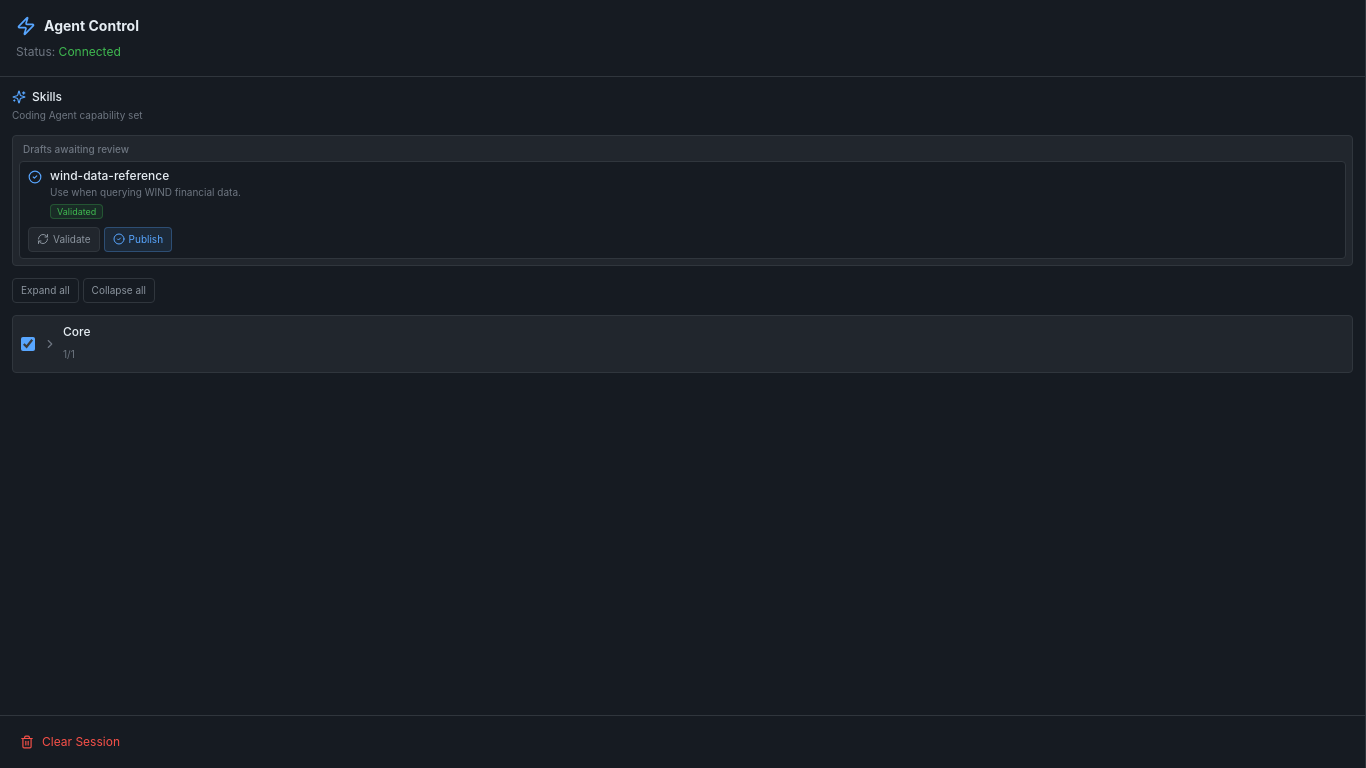
Test: Sidebar › publishes a draft for the current agent and expands the user skills category
Click the button "Publish": click(138, 239) top-left (104, 226), bottom-right (172, 252)
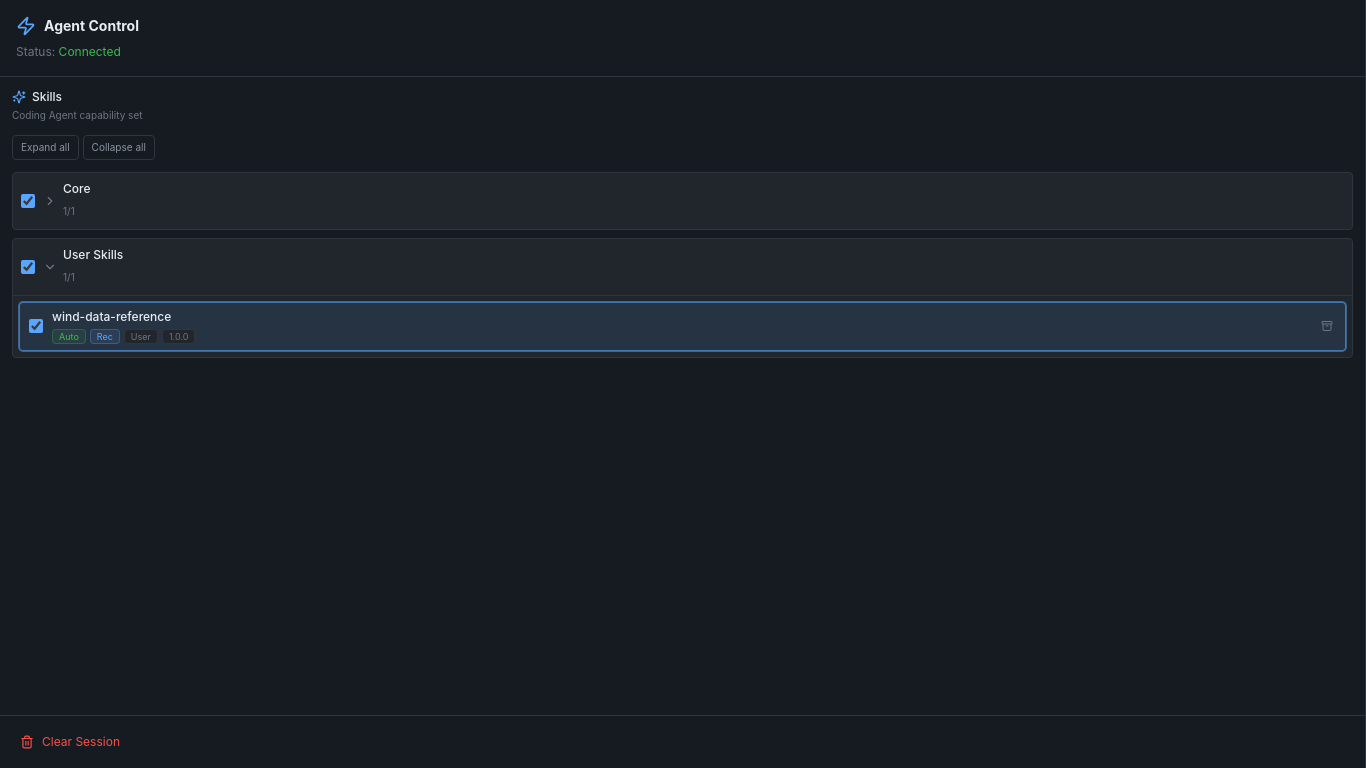
Expected: the checkbox named "Disable wind-data-reference for Coding Agent" is shown, top-left (29, 319), bottom-right (43, 333)
Expected: the text "wind-data-reference" is shown, top-left (52, 309), bottom-right (171, 324)
